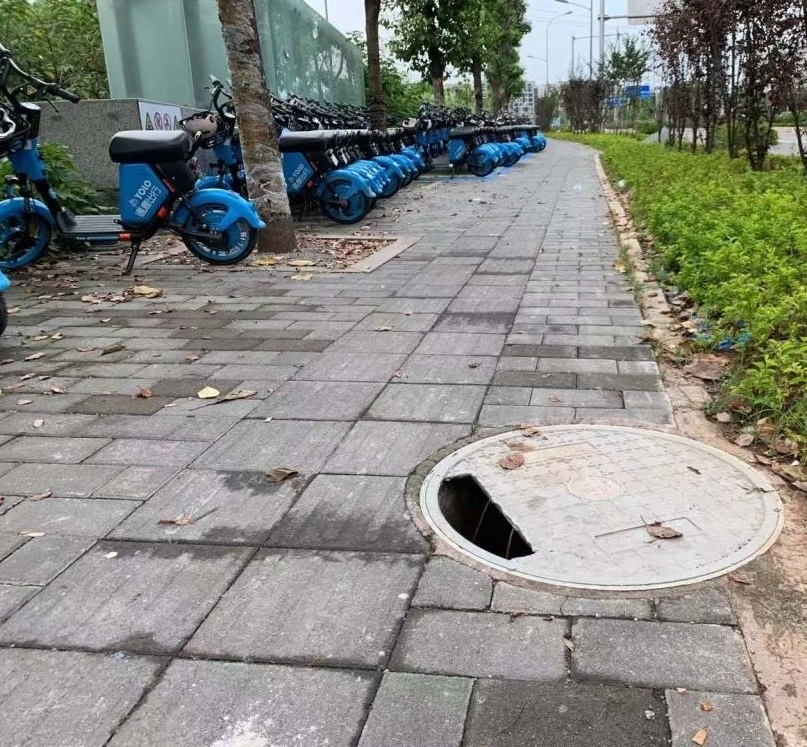broke: (407, 421, 782, 592)
